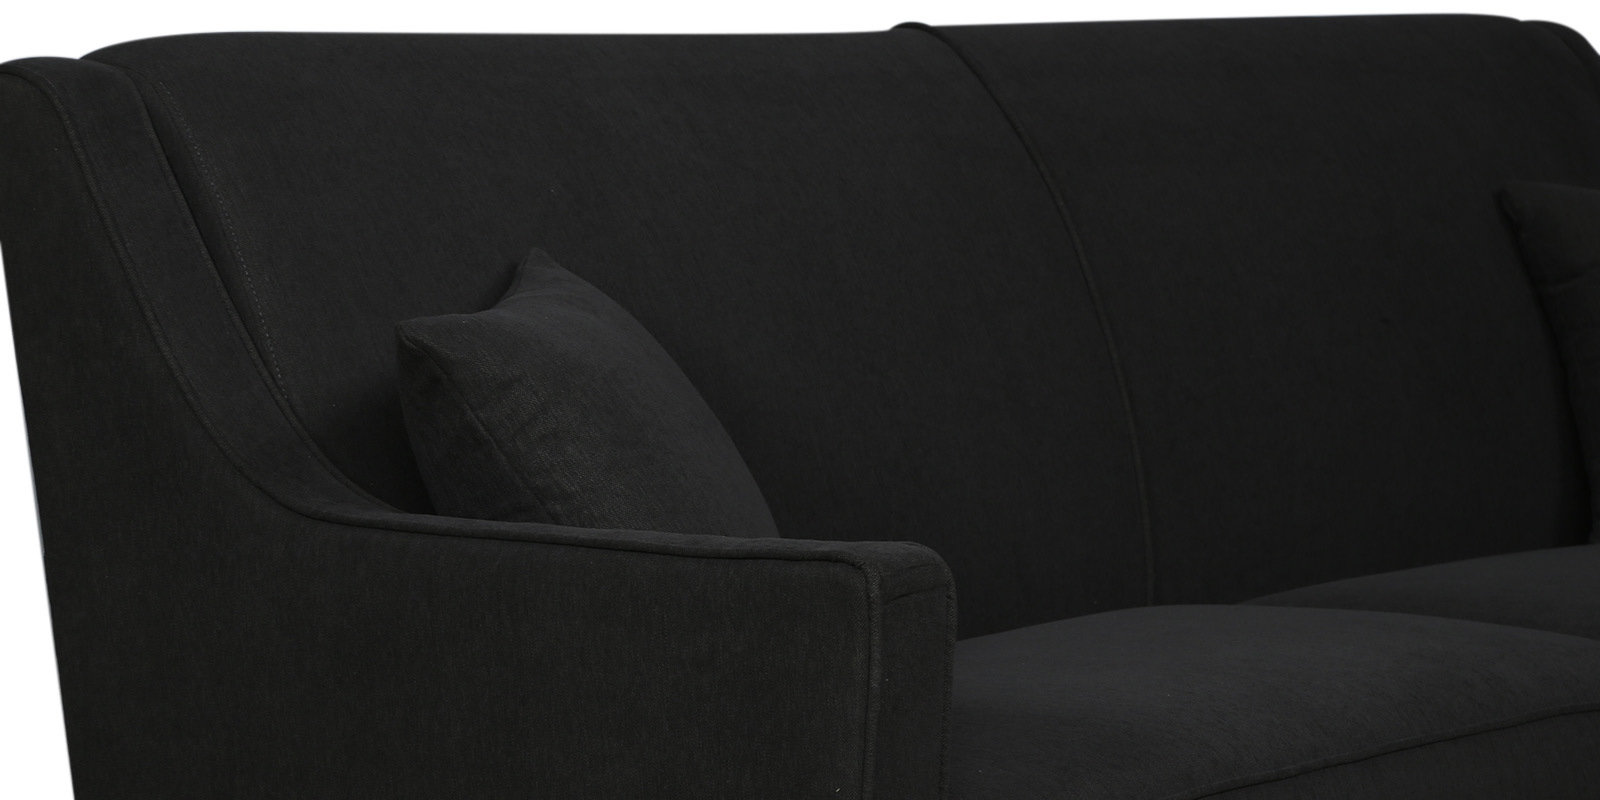Oscar Three Seater Sofa in Charcoal Grey Colour by CasaCraft: (1, 14, 1590, 800)
